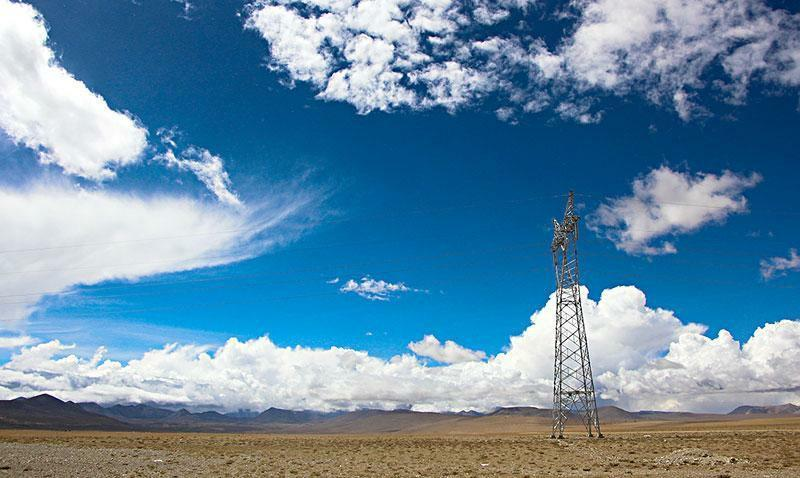power_tower: (523, 188, 620, 445)
